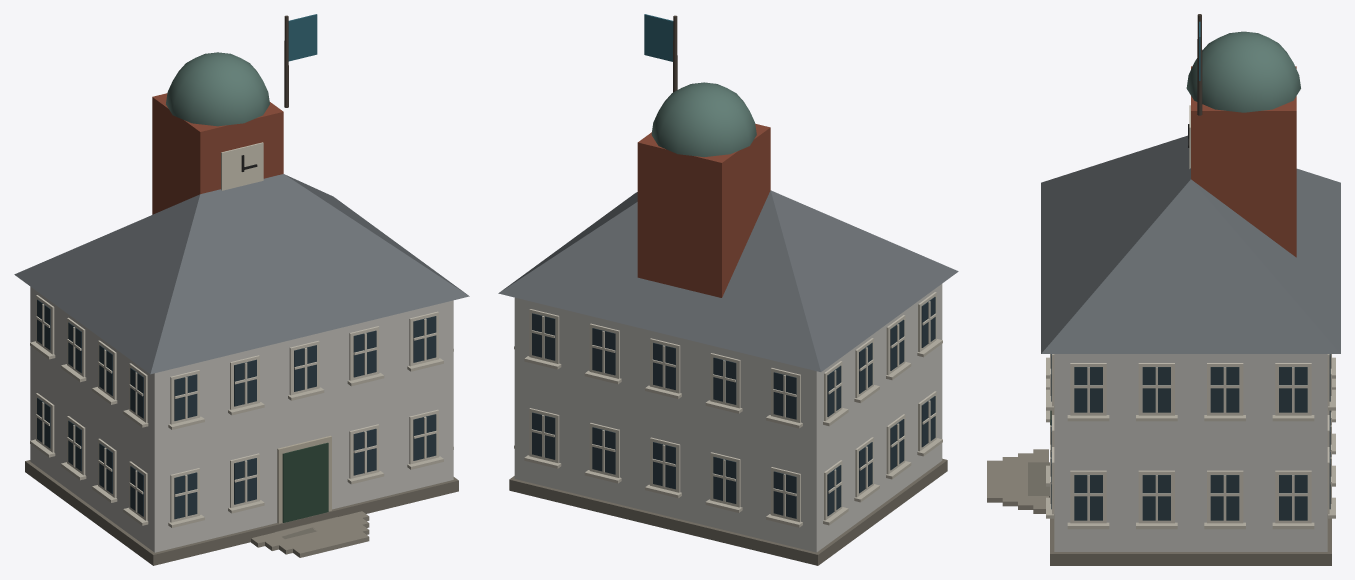
The model's file is procedural_hall@6.glb.
3 renders of one model, left to right at view 1: azimuth 30°, elevation 25°; view 2: azimuth 150°, elevation 25°; view 3: azimuth 270°, elevation 25°, orthographic. The views are drawn at different scales.
Visible parts, largest first — view 1: part_0; view 2: part_0; view 3: part_0.
Part boxes in pixels (x1,y1,x2,y2): part_0: [14, 14, 469, 565]; part_0: [498, 14, 958, 565]; part_0: [987, 14, 1340, 565].
Size of the model in its own units: 9.2 by 12.4 by 8.03.
